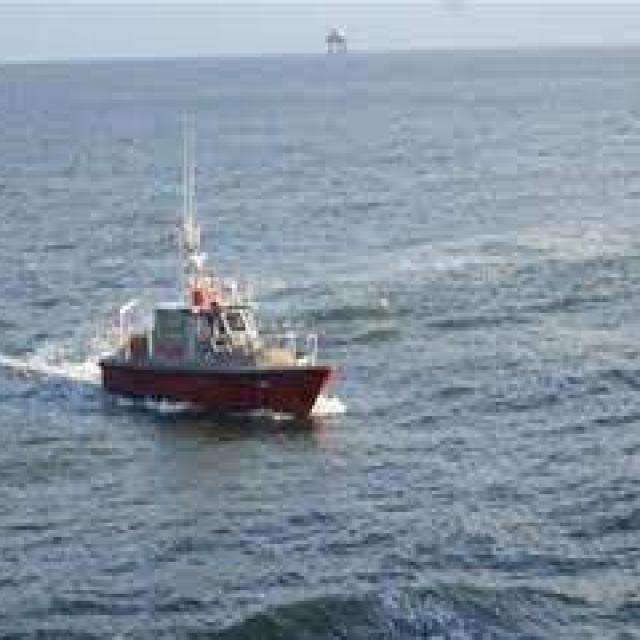houseboat: (99, 212, 343, 427)
